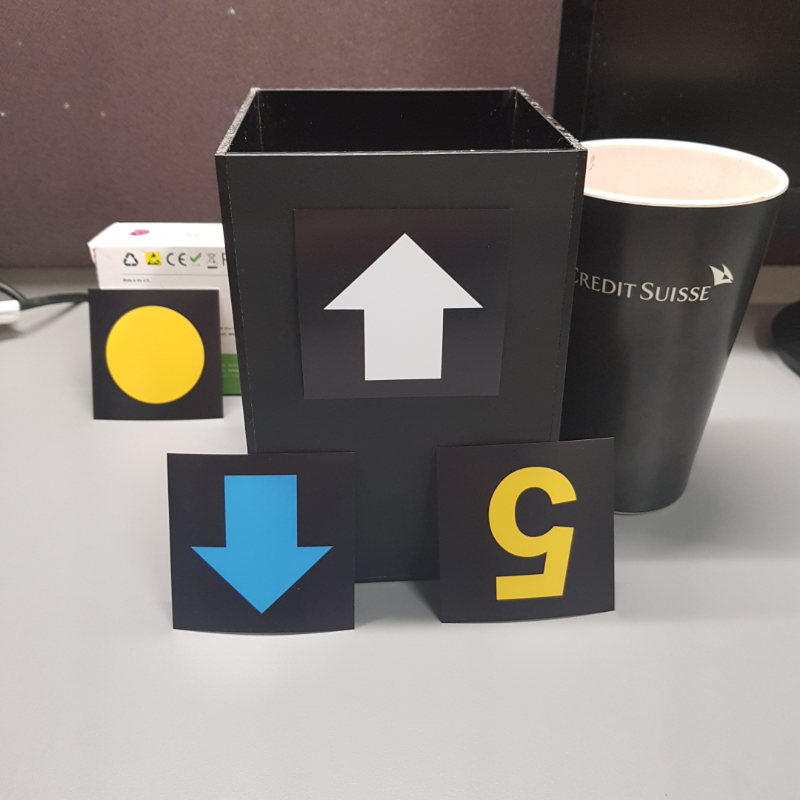Five-10: (447, 455, 608, 609)
LA-4: (178, 461, 351, 628)
Stop-5: (96, 295, 218, 414)
UA-1: (308, 218, 494, 392)
